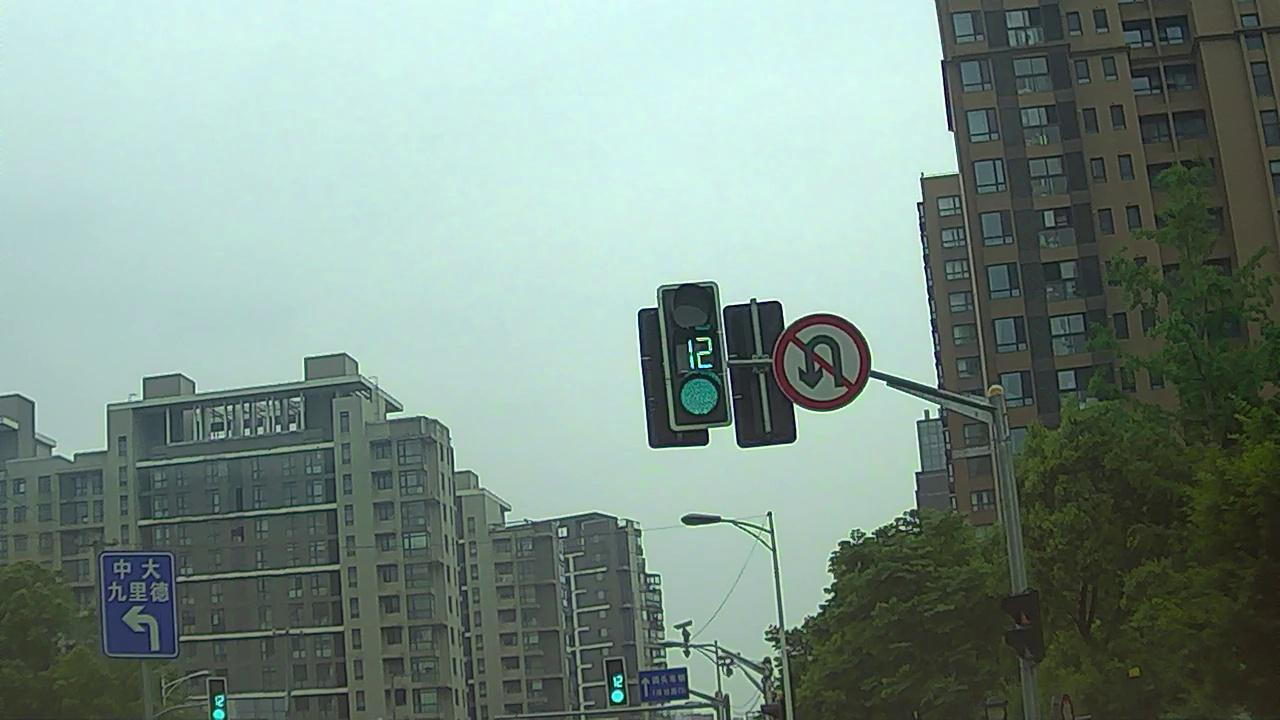traffic_light: (661, 288, 727, 426)
